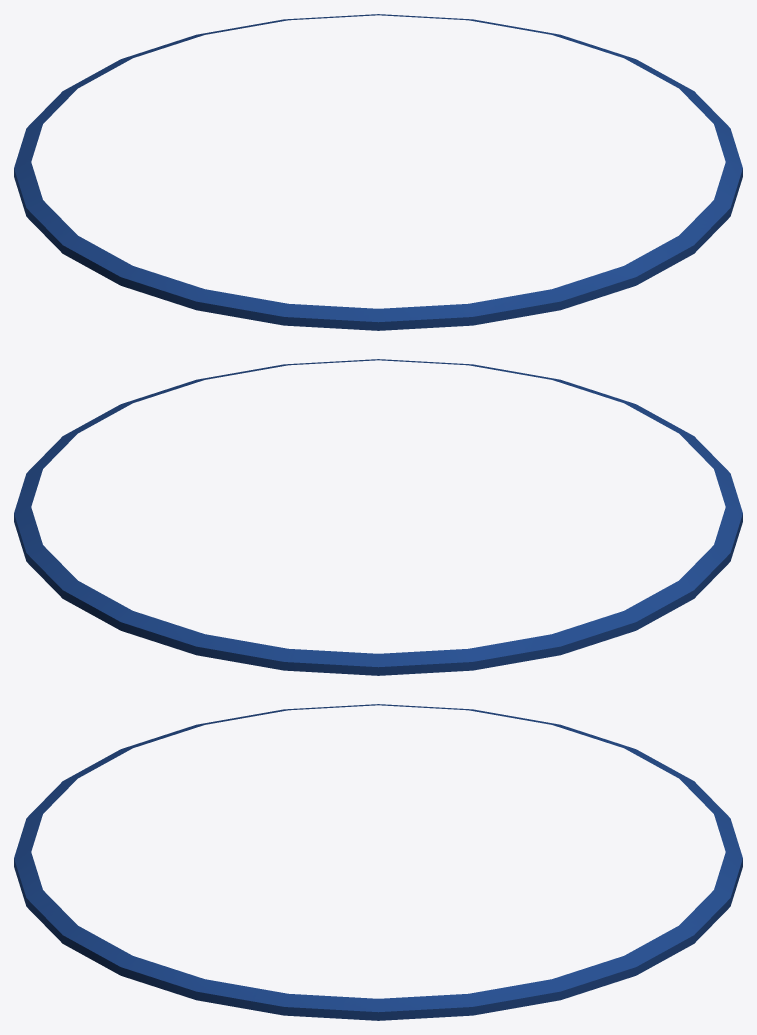
Rendered from dome.trim_bottom.blue.glb.
3 renders of one model, top to bottom at view 1: azimuth 30°, elevation 25°; view 2: azimuth 150°, elevation 25°; view 3: azimuth 270°, elevation 25°, orthographic.
Parts seen in each view (by area): view 1: dome_trim_bottom_blue; view 2: dome_trim_bottom_blue; view 3: dome_trim_bottom_blue.
Part boxes in pixels (bbox=[...]): dome_trim_bottom_blue: bbox=[14, 14, 742, 330]; dome_trim_bottom_blue: bbox=[14, 359, 742, 675]; dome_trim_bottom_blue: bbox=[14, 704, 742, 1020].
Size of what is drawn, in the model's own units: 7.6 by 0.17 by 7.6.
